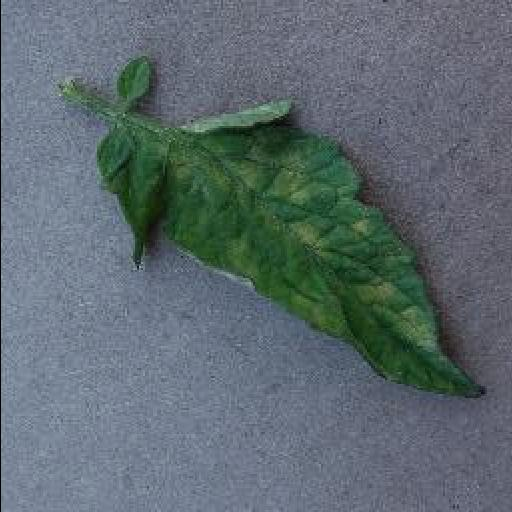disease_tomato: (94, 98, 486, 403)
